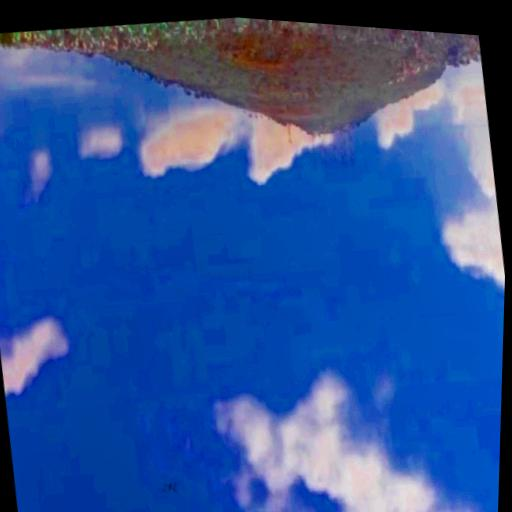drones: (160, 476, 183, 499)
